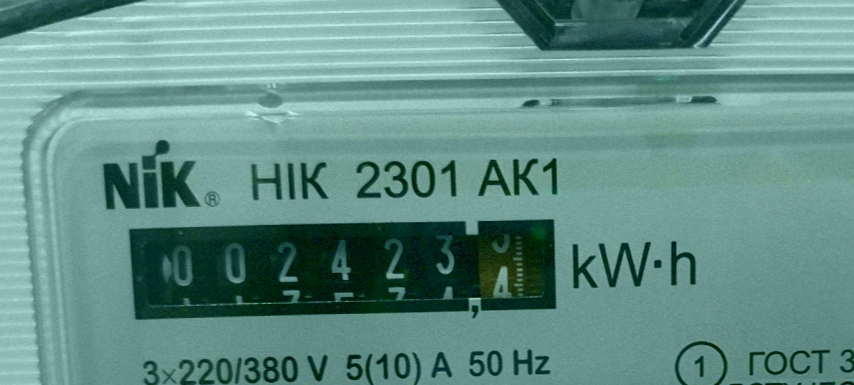0: (170, 239, 197, 288), (223, 239, 249, 284)
2: (275, 236, 301, 283), (383, 234, 407, 280)
3: (434, 230, 458, 275), (491, 229, 513, 253)
4: (330, 235, 353, 281), (490, 260, 515, 298)
screen: (119, 206, 571, 330)
